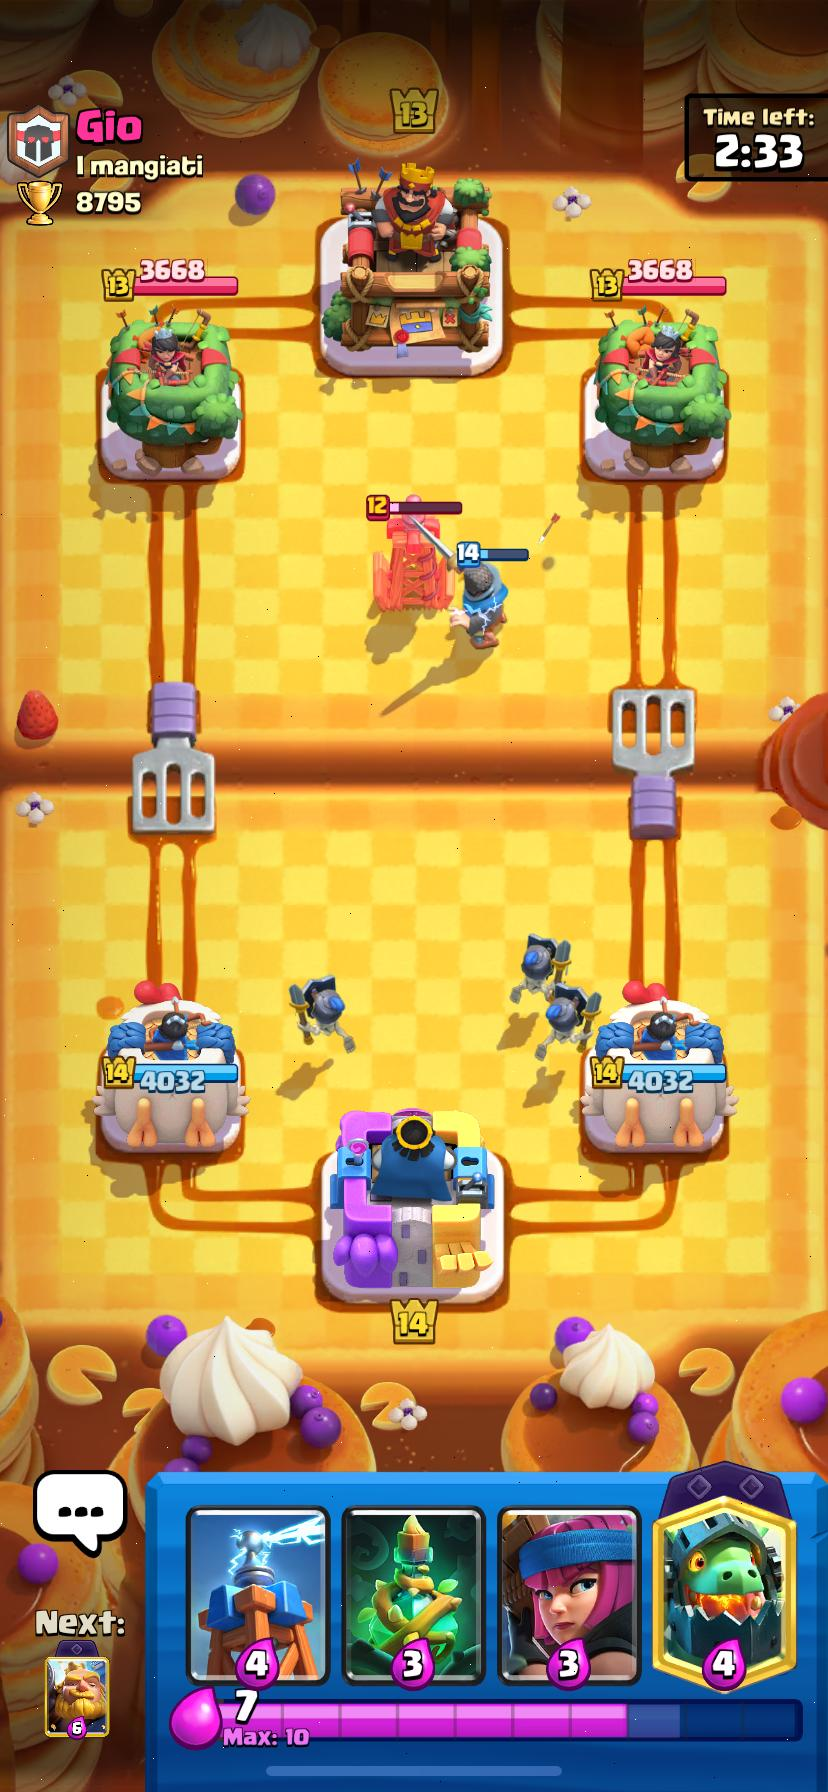EKingTower: (321, 165, 502, 376)
ETesla: (373, 517, 454, 611)
EnemyPrincessTower: (105, 309, 242, 479), (594, 309, 729, 477)
OGuard: (535, 982, 599, 1059), (289, 976, 355, 1051), (510, 934, 570, 1003)
OKnight: (451, 557, 507, 648)
OwnKingTower: (321, 1109, 503, 1303)
OwnPrincessTower: (580, 982, 737, 1153), (93, 983, 248, 1153)
